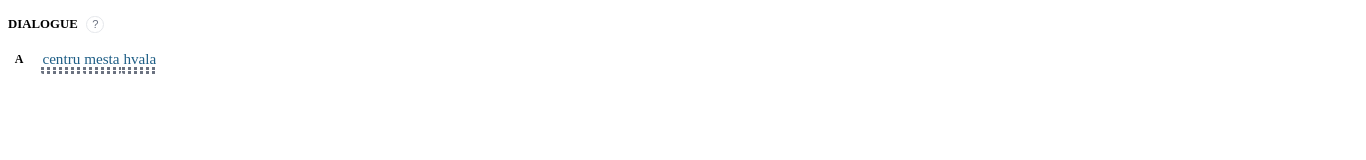
Scenario: Transcript › phrase creation — "+ New phrase" toggle and drag › drag: pointerdown + pointermove + pointerup over 2 words shows confirm bar
Press the mouse on the button "centru" at (61, 62), box [41, 50, 81, 74]
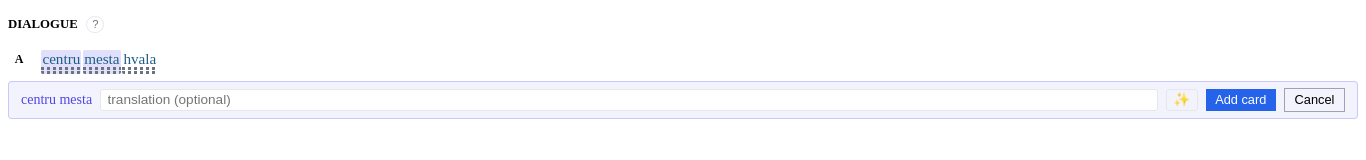
Expected: the element showing "centru mesta ✨ Add card Cancel" is shown, [8, 81, 1358, 119]
